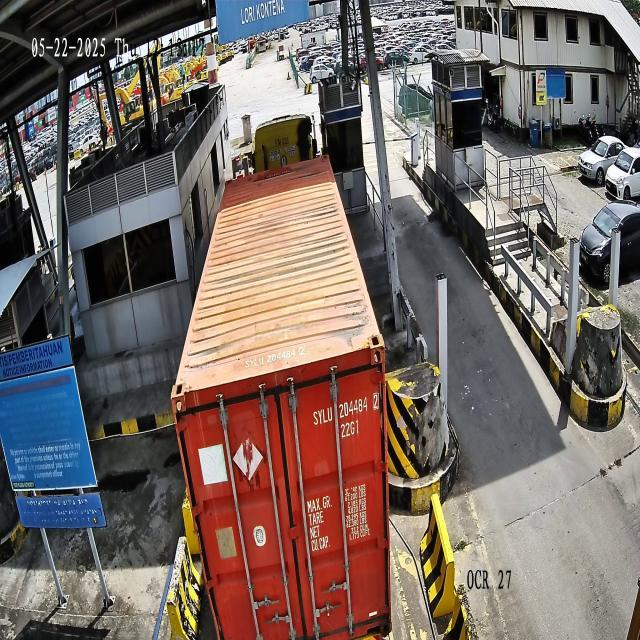ISO: (340, 419, 360, 439)
container_number: (312, 392, 379, 426)
